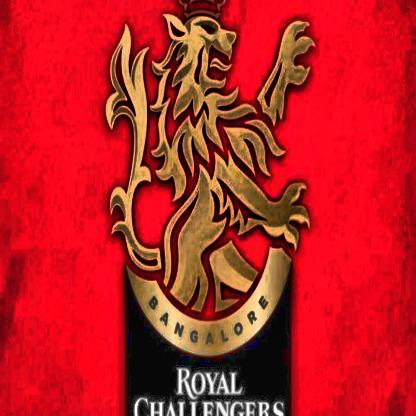Royal Challengers Bangalore: (108, 1, 318, 416), (110, 2, 312, 358)
